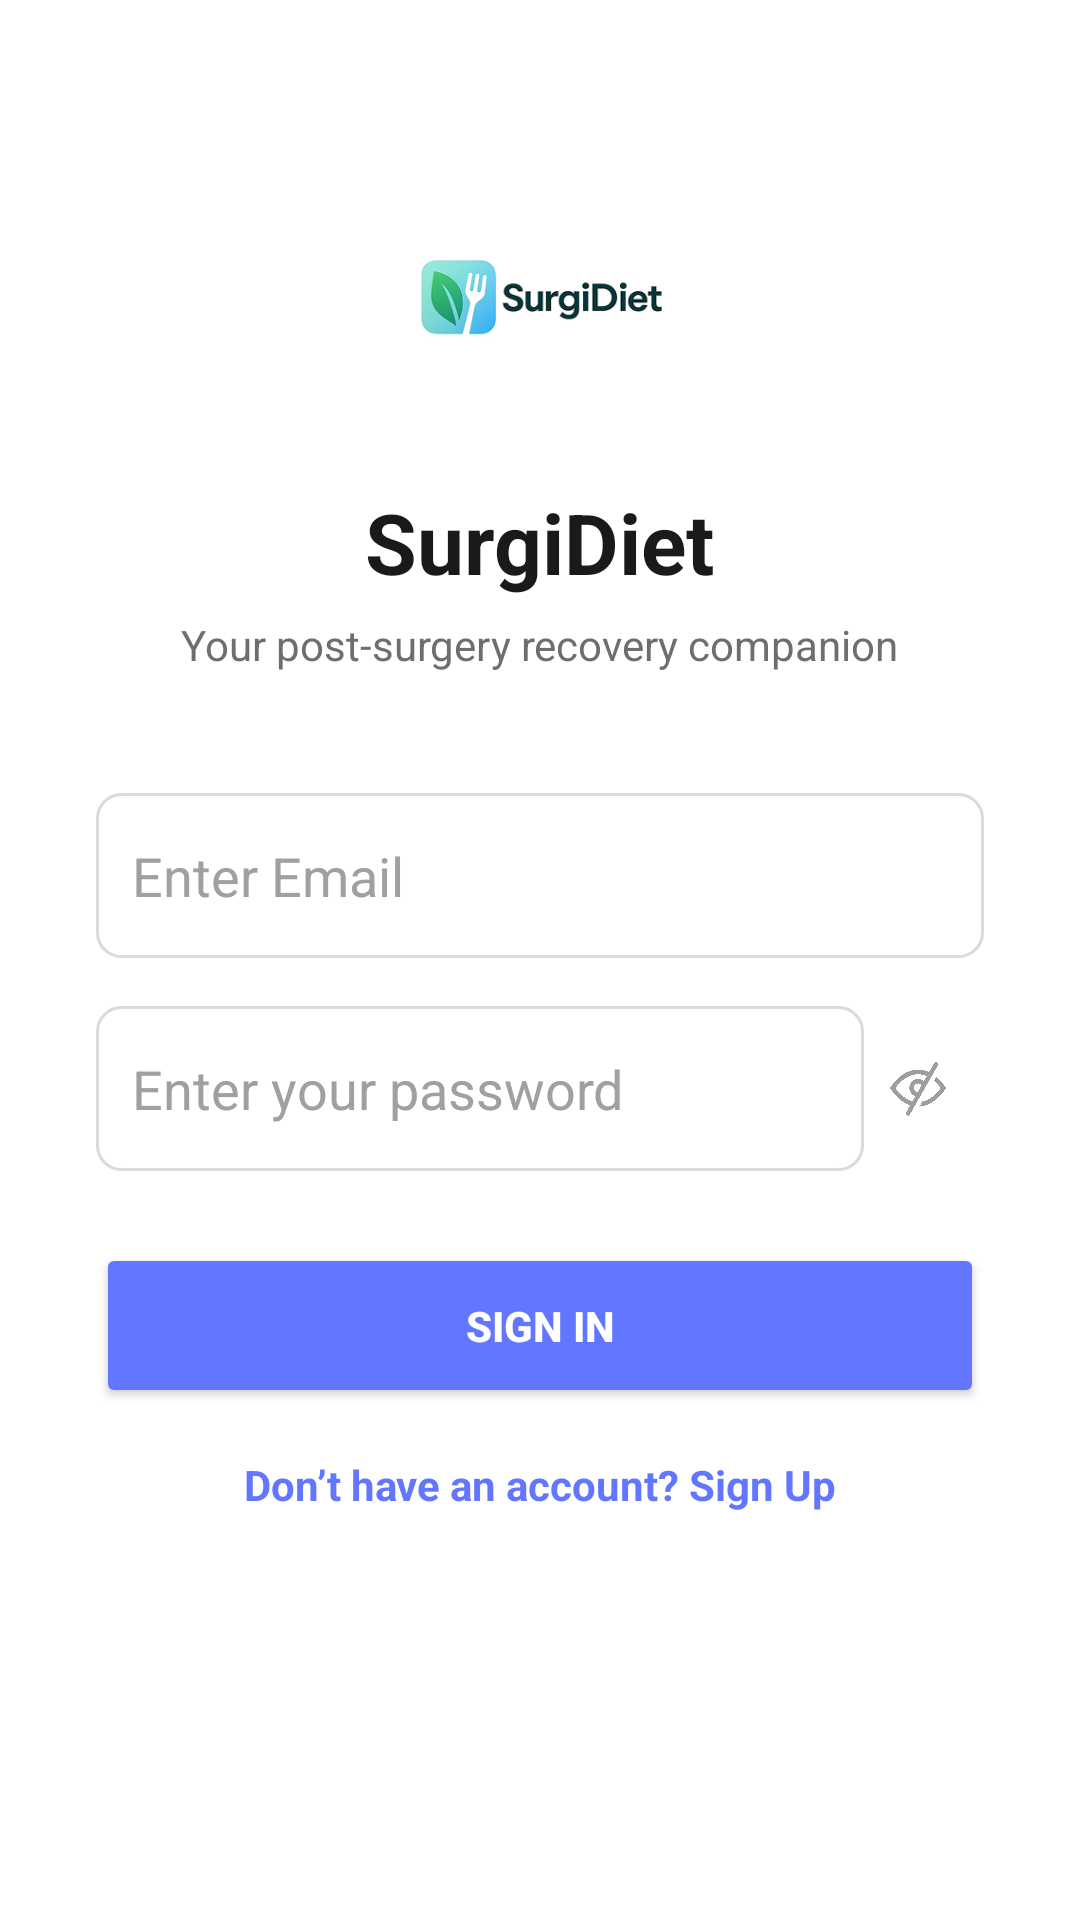

Where to tap for icons on this 1080w x 1920h app screen, as (x,y):
Toggle Password Visibility: (918,1089)
